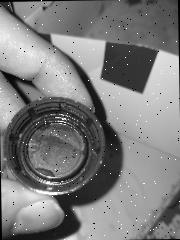plastic: (2, 95, 107, 196)
